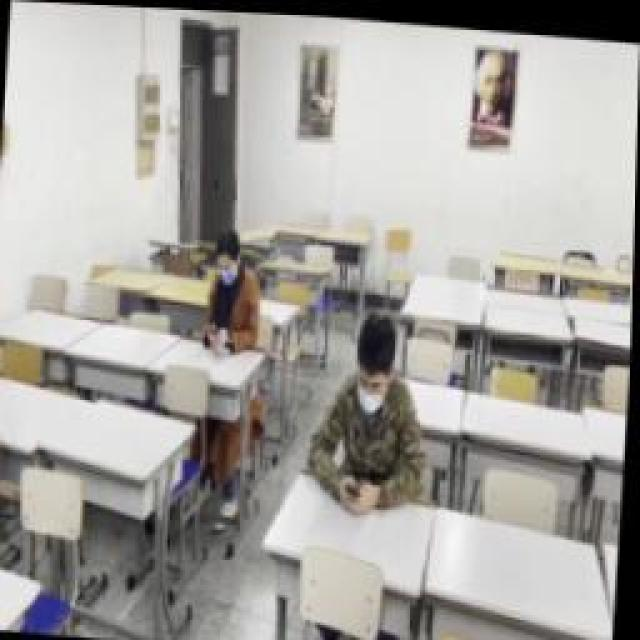phone: (307, 305, 435, 513), (203, 223, 265, 345)
